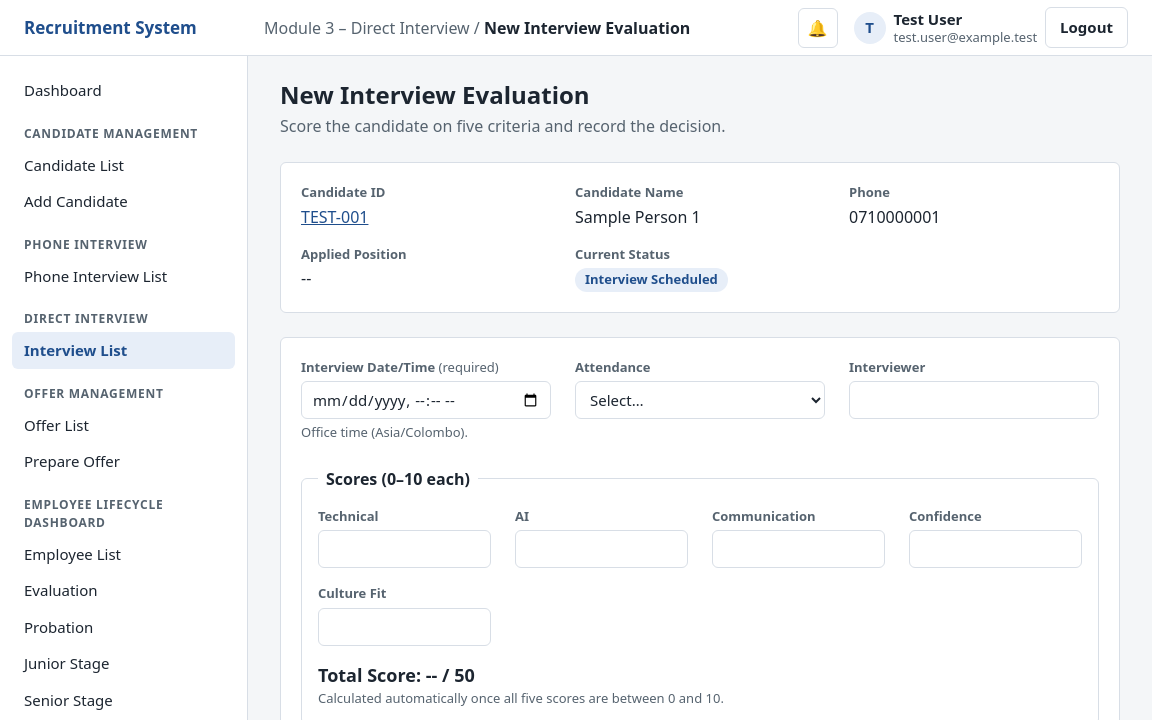
Scenario: interview evaluation: scores and total › an out-of-range or fractional score is stopped before anything is sent
The image size is (1152, 720).
Type "11" into the number field labelled "Technical" at (404, 549), box left=318, top=530, right=491, bottom=568
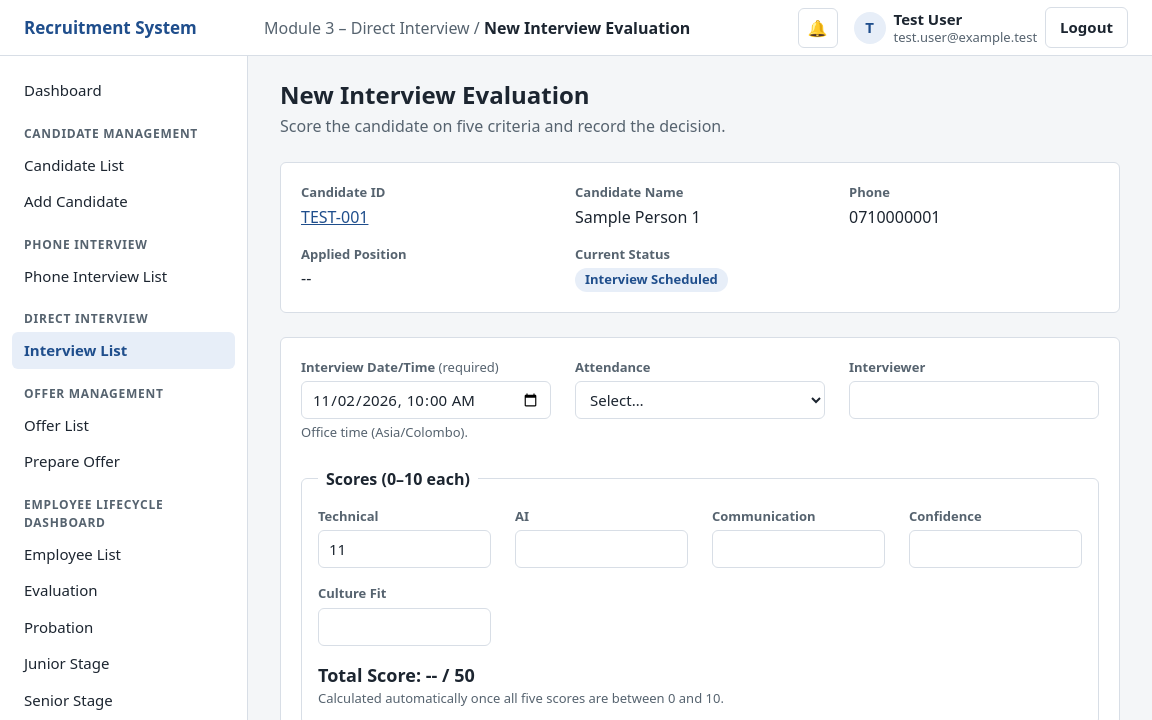
Type "7.5" into the number field labelled "AI" at (602, 549), box left=515, top=530, right=688, bottom=568
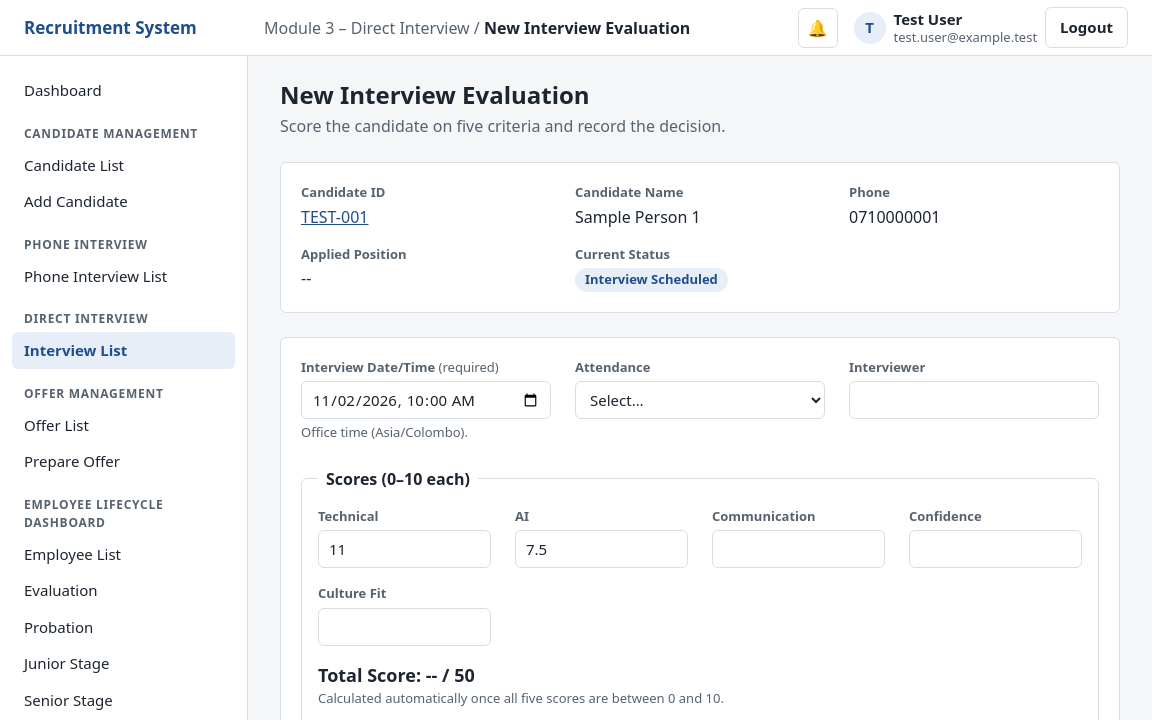
Type "9" into the number field labelled "Communication" at (798, 549), box left=712, top=530, right=885, bottom=568
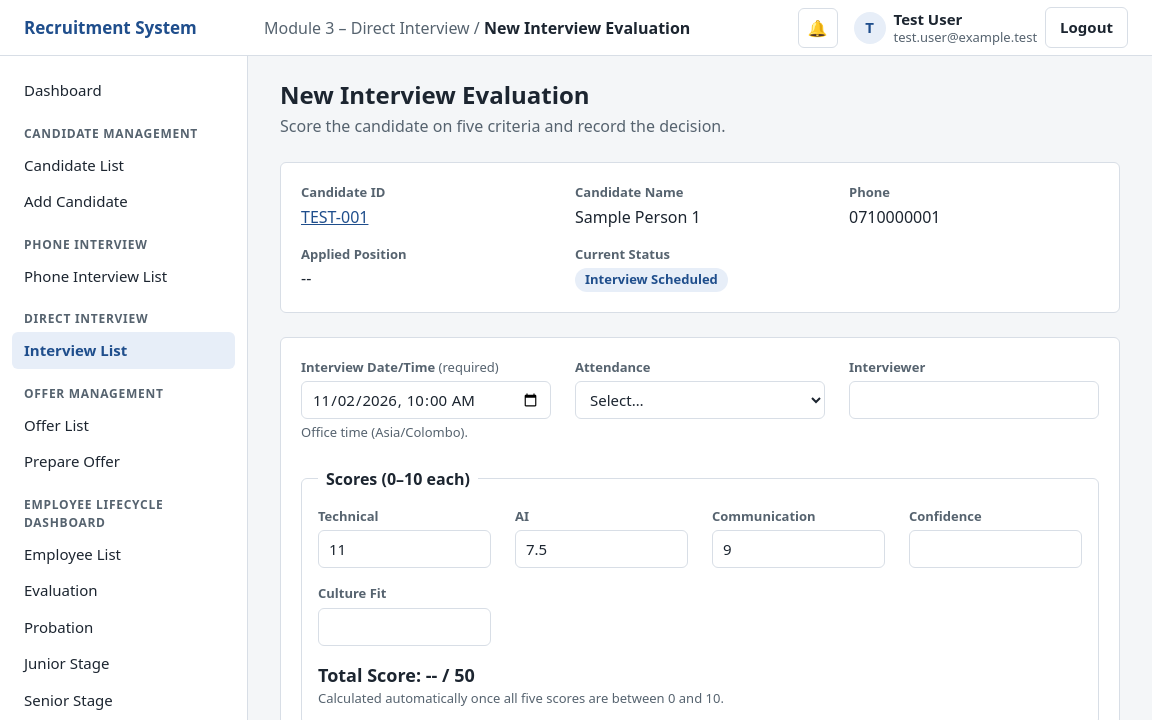
Type "6" into the number field labelled "Confidence" at (996, 549), box left=909, top=530, right=1082, bottom=568
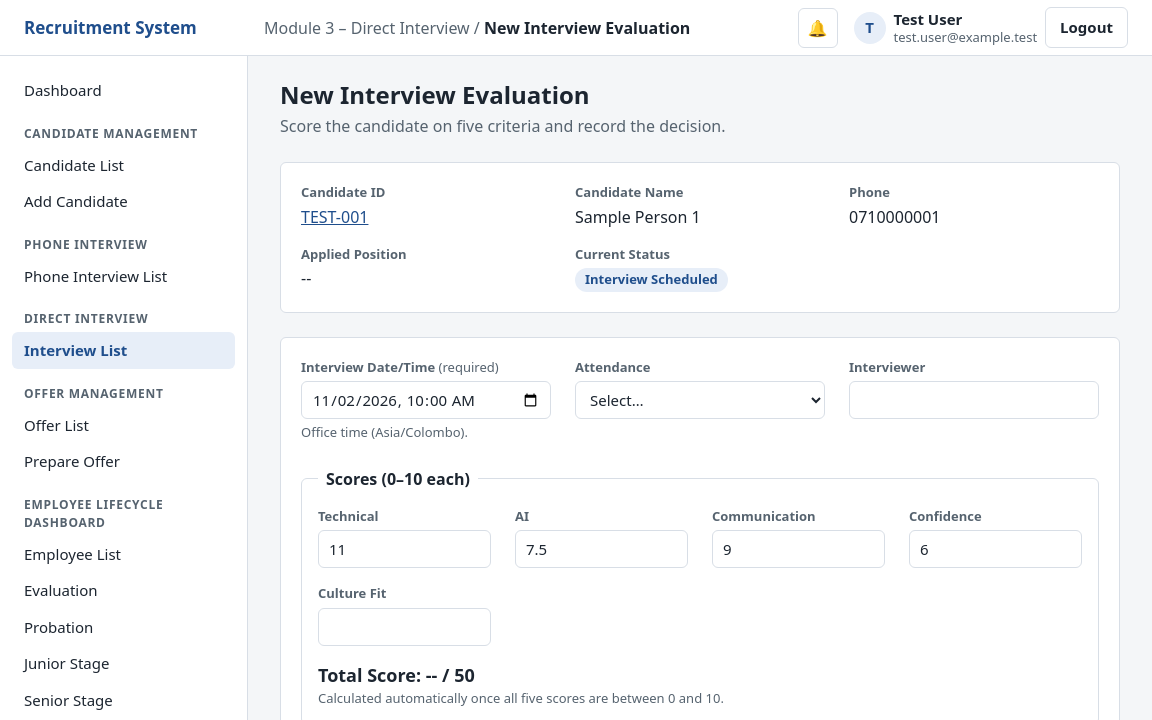
Type "10" into the number field labelled "Culture Fit" at (404, 626), box left=318, top=608, right=491, bottom=646
(page scrolled)
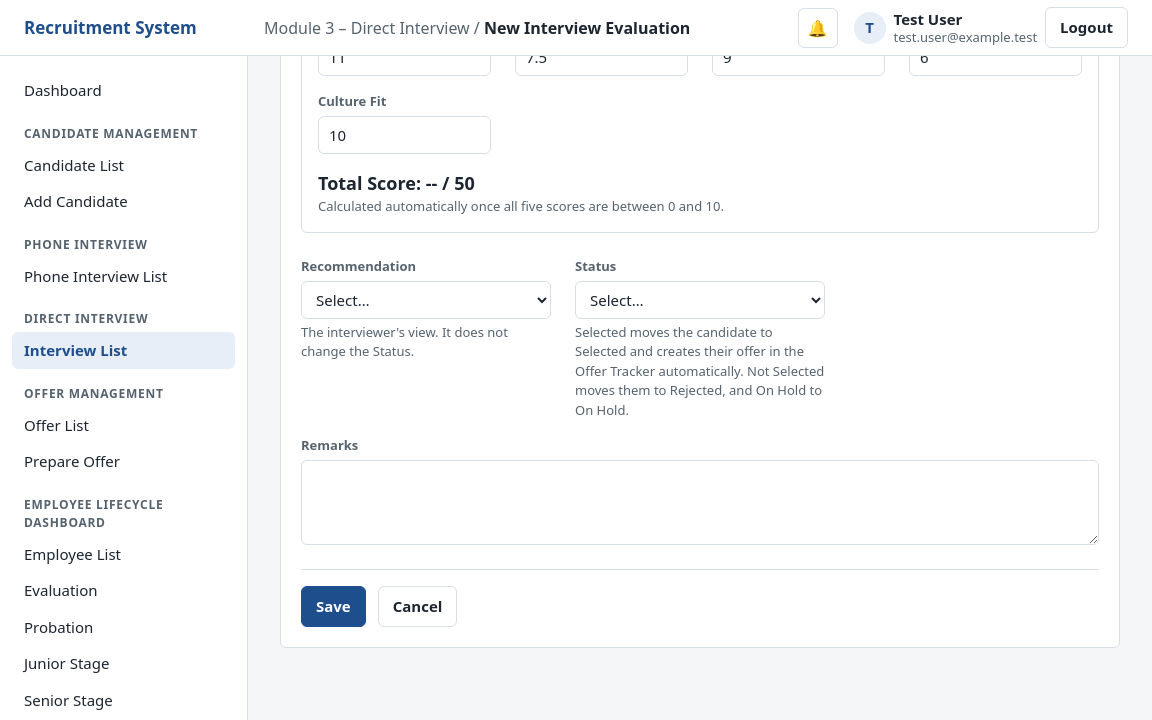
Click the button "Save" at (333, 606), box left=301, top=586, right=366, bottom=626
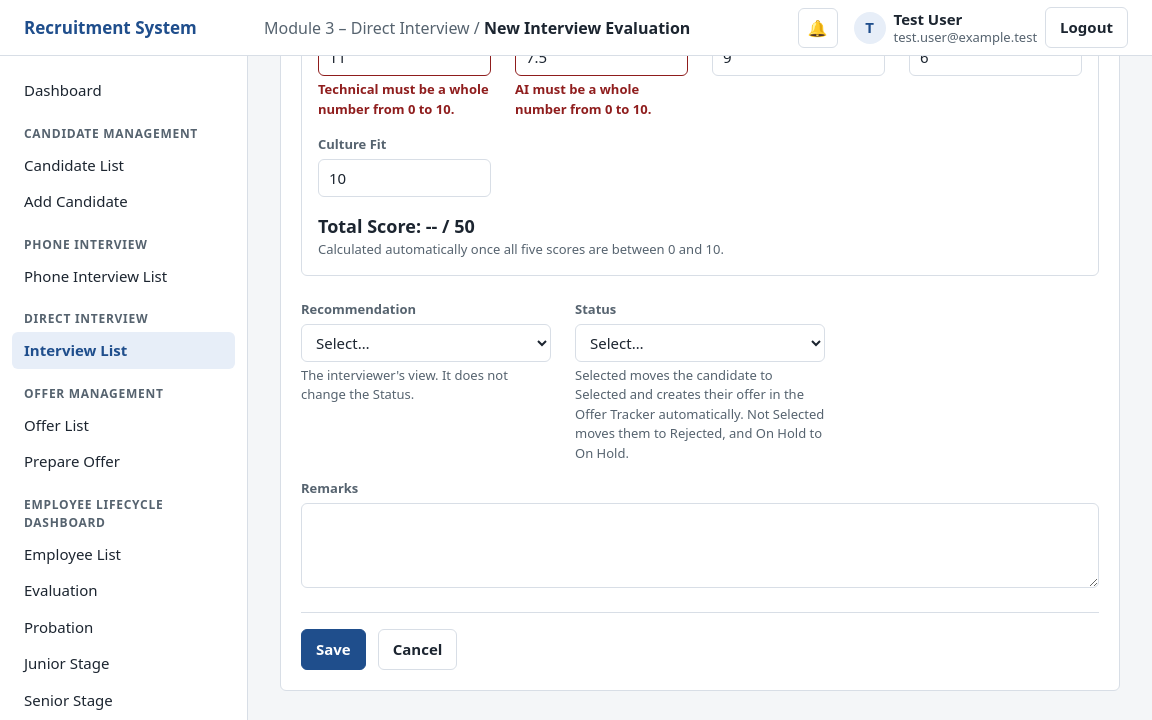
Expected: the text "Technical must be a whole number from 0 to 10." is shown, left=318, top=80, right=491, bottom=119
Expected: the text "AI must be a whole number from 0 to 10." is shown, left=515, top=80, right=651, bottom=118
